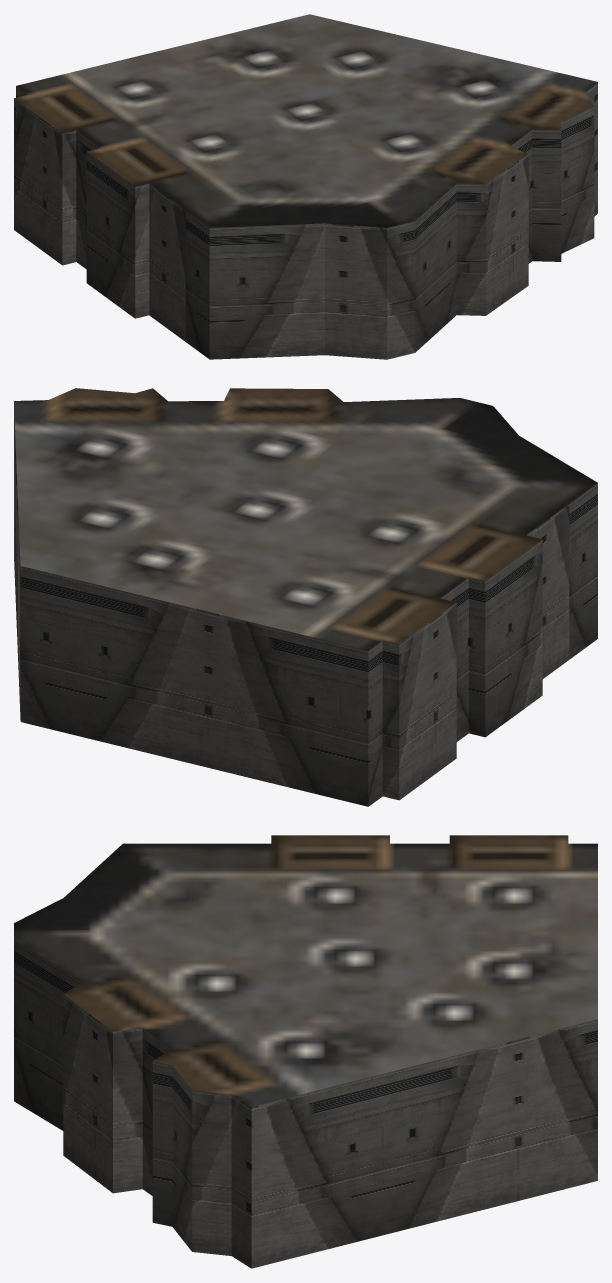
File: fortress_medium_a_03.glb
The picture shows the model from 3 angles, top to bottom: view 1: azimuth 30°, elevation 25°; view 2: azimuth 150°, elevation 25°; view 3: azimuth 270°, elevation 25°; orthographic projection. The views are drawn at different scales.
Visible parts, largest first — view 1: buildings/saxarba/fortress_medium/fortress_medium_a_03; view 2: buildings/saxarba/fortress_medium/fortress_medium_a_03; view 3: buildings/saxarba/fortress_medium/fortress_medium_a_03.
Boxes of the visible parts, x1,y1,x2,y2 form: buildings/saxarba/fortress_medium/fortress_medium_a_03: [14, 14, 597, 359]; buildings/saxarba/fortress_medium/fortress_medium_a_03: [14, 388, 597, 806]; buildings/saxarba/fortress_medium/fortress_medium_a_03: [14, 835, 597, 1268].
Bounding box in the file's own units: 65 × 18 × 59.
